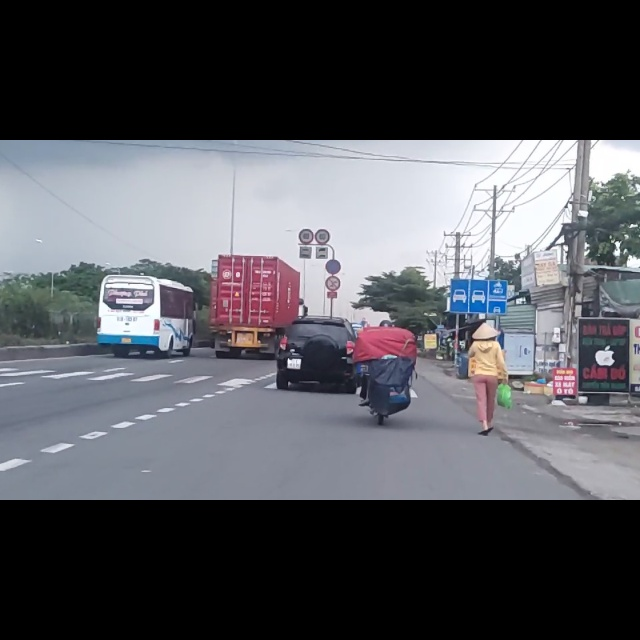bien_cam: (450, 247, 506, 311), (325, 211, 341, 239), (325, 242, 341, 268), (315, 159, 330, 185), (299, 159, 313, 185)
